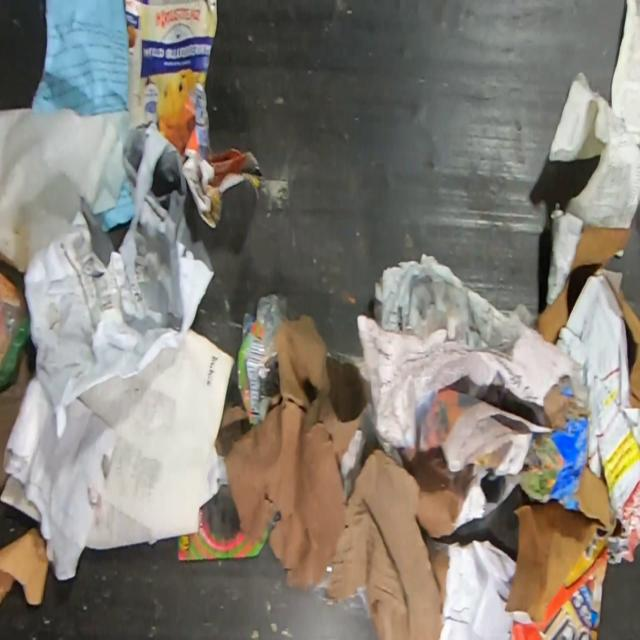cardboard: (123, 0, 262, 230), (326, 448, 463, 640), (504, 465, 618, 640), (531, 221, 633, 346), (517, 372, 592, 511), (0, 347, 30, 491), (0, 525, 50, 609), (614, 287, 640, 408)
rigid_plastic: (0, 269, 32, 393)
soft_plastic: (236, 291, 288, 425)
